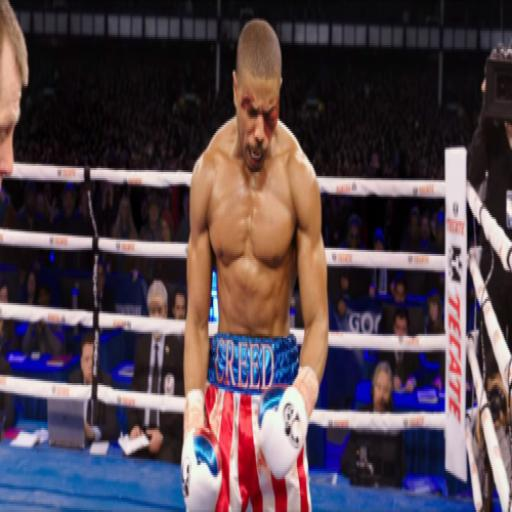boxing: (179, 16, 330, 510)
